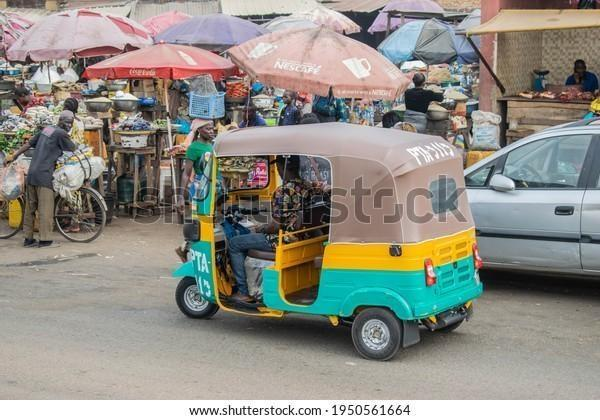keke: (176, 128, 480, 362)
